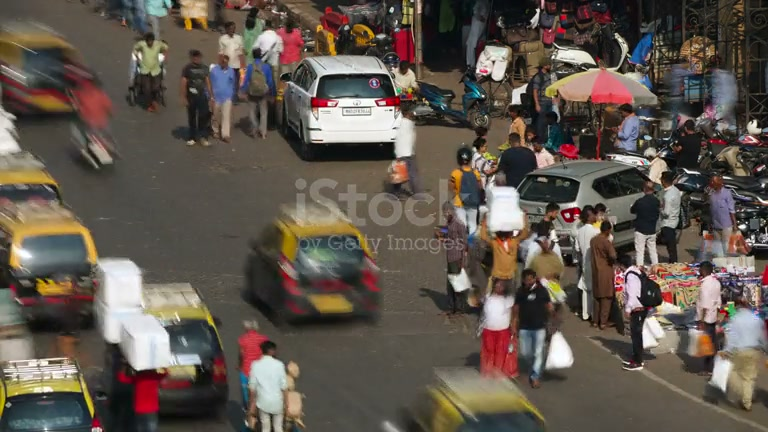car: (241, 217, 385, 327), (516, 157, 653, 256), (279, 54, 403, 161), (0, 197, 100, 329), (137, 282, 230, 418), (385, 366, 548, 431), (0, 19, 94, 119), (0, 357, 106, 431), (91, 257, 147, 346)
motorcycle: (65, 83, 120, 172)
pedestrian: (706, 290, 768, 411), (513, 267, 554, 389), (620, 257, 663, 369), (478, 278, 519, 379), (247, 341, 289, 432), (236, 319, 272, 415), (239, 48, 276, 140), (588, 219, 618, 331), (449, 145, 484, 238), (180, 49, 212, 145), (131, 31, 168, 110), (208, 52, 239, 143), (630, 180, 661, 269), (704, 171, 736, 257), (655, 170, 683, 264), (695, 260, 723, 353), (497, 132, 538, 188), (237, 319, 271, 380), (218, 21, 246, 75)
